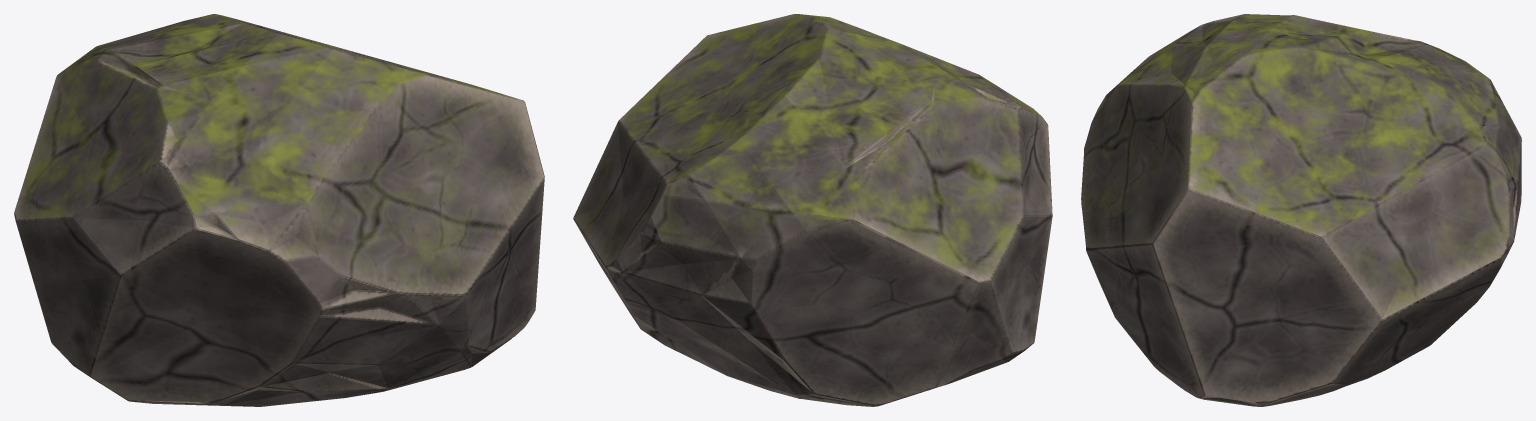
The model's file is Stone_Pebble.fbx.
3 views of the same model, side by side, from view 1: azimuth 30°, elevation 25°; view 2: azimuth 150°, elevation 25°; view 3: azimuth 270°, elevation 25° (orthographic). The views are drawn at different scales.
Parts seen in each view (by area): view 1: Stone_Pebble; view 2: Stone_Pebble; view 3: Stone_Pebble.
Part boxes in pixels (x1,y1,x2,y2): Stone_Pebble: [14, 14, 544, 406]; Stone_Pebble: [573, 14, 1052, 406]; Stone_Pebble: [1081, 14, 1521, 406].
Size of the model in its own units: 0.1452 by 0.0964 by 0.1386.
